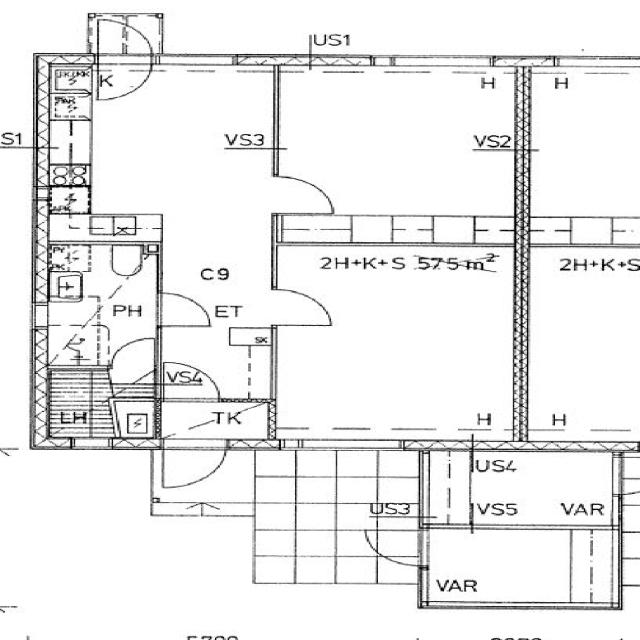door: (274, 171, 340, 214), (273, 284, 335, 326), (152, 288, 213, 329), (106, 336, 159, 373), (370, 532, 423, 569), (113, 20, 154, 60)
window: (155, 51, 242, 78), (554, 54, 632, 70)
zone: (280, 70, 528, 230), (40, 64, 284, 214), (240, 450, 422, 591), (520, 245, 640, 423), (520, 66, 640, 226), (416, 529, 616, 606), (34, 242, 161, 359), (466, 451, 619, 528), (40, 366, 138, 442), (43, 57, 93, 121)
